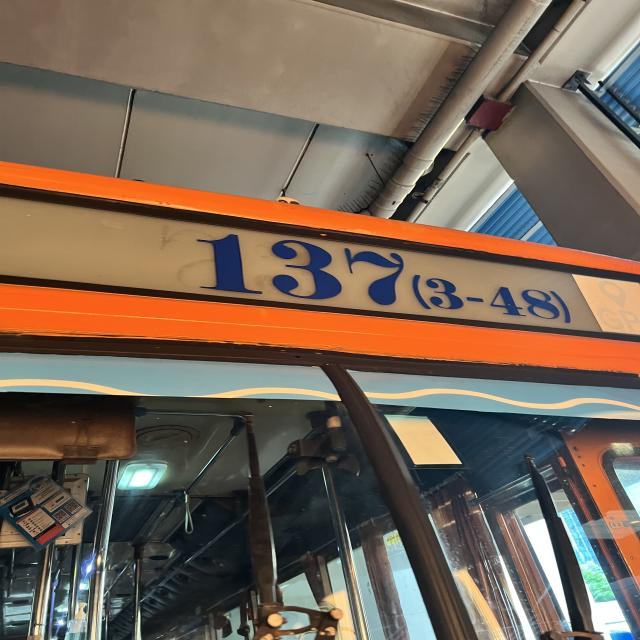BMTA-bus: (0, 155, 640, 640)
Bus-Line-Number: (176, 222, 589, 329)
